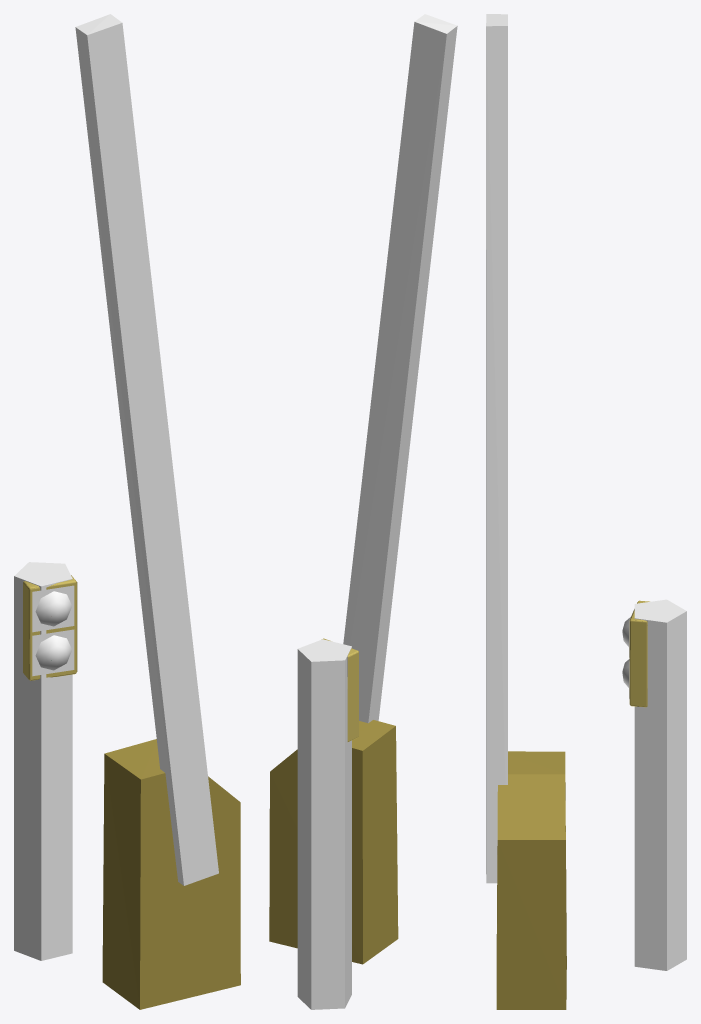
The model's file is weight_station_barrier_02.dae.
3 renders of one model, left to right at view 1: azimuth 30°, elevation 25°; view 2: azimuth 150°, elevation 25°; view 3: azimuth 270°, elevation 25°, orthographic. The views are drawn at different scales.
Parts seen in each view (by area): view 1: Colmesh_weight_sation_barrier-1, weight_sation_barrier_a500, weight_sation_barrier_a80; view 2: Colmesh_weight_sation_barrier-1, weight_sation_barrier_a500; view 3: Colmesh_weight_sation_barrier-1, weight_sation_barrier_a500.
Part boxes in pixels (x1,y1,x2,y2): Colmesh_weight_sation_barrier-1: (14,14,240,1009); weight_sation_barrier_a500: (23,575,77,680); weight_sation_barrier_a80: (23,579,76,680); Colmesh_weight_sation_barrier-1: (269,14,457,1009); weight_sation_barrier_a500: (321,638,358,741); Colmesh_weight_sation_barrier-1: (486,14,686,1009); weight_sation_barrier_a500: (622,600,649,707).
Bounding box in the file's own units: 0.892 × 1.04 × 5.35.
